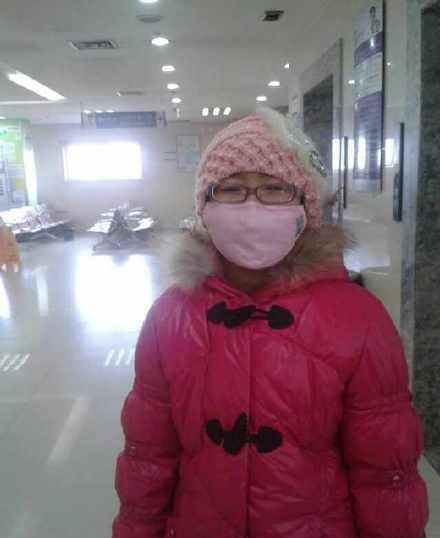face_mask: (206, 153, 295, 271)
